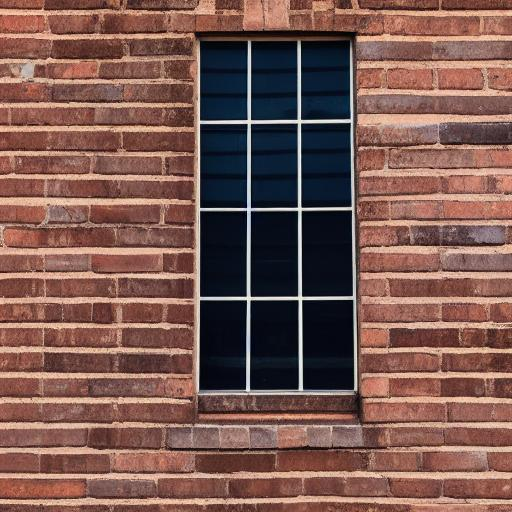Window: (196, 26, 362, 422)
